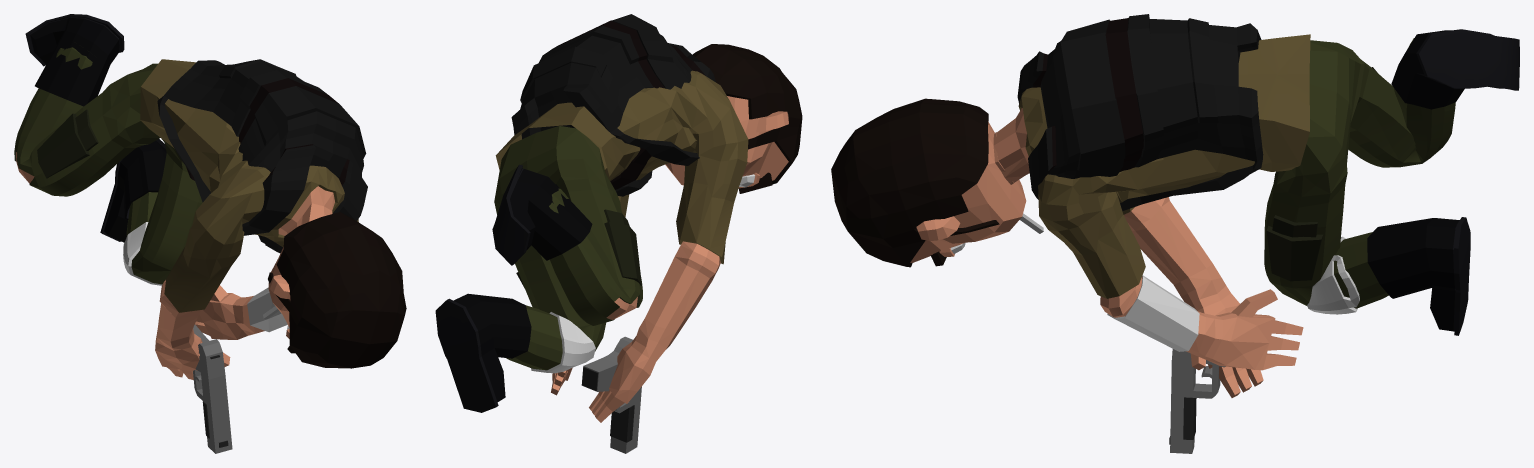
File: frame_0074.obj
3 views of the same model, side by side, from view 1: azimuth 30°, elevation 25°; view 2: azimuth 150°, elevation 25°; view 3: azimuth 270°, elevation 25° (orthographic). The views are drawn at different scales.
Visible parts, largest first — view 1: Body, Gun; view 2: Body, Gun; view 3: Body, Gun.
Part boxes in pixels (box(x1,y1,x2,y2)): Body: box(14, 14, 406, 379); Gun: box(193, 324, 232, 453); Body: box(435, 14, 802, 422); Gun: box(581, 336, 641, 453); Body: box(831, 14, 1519, 397); Gun: box(1169, 349, 1225, 453).
Bounding box in the file's own units: 1.39 × 2.42 × 3.38.
